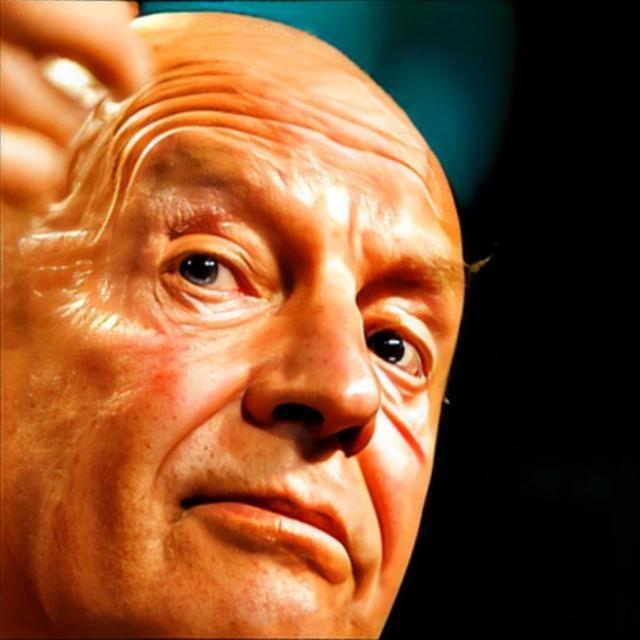disgust: (0, 8, 464, 640)
